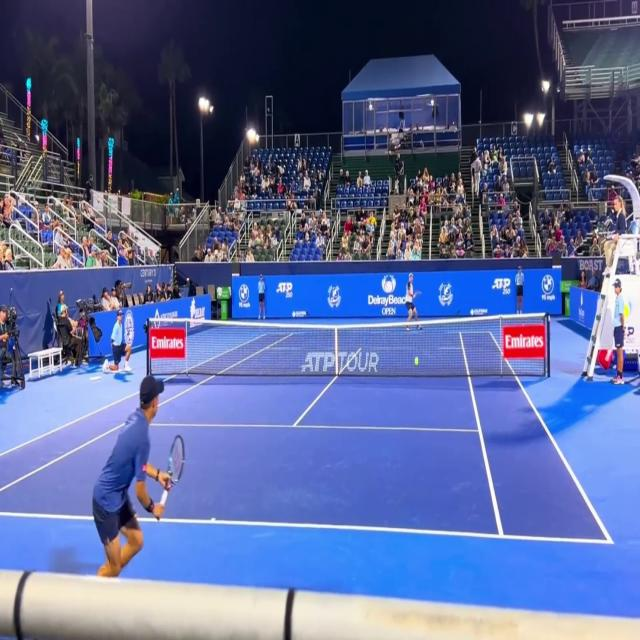tennisBall: (410, 350, 422, 375)
